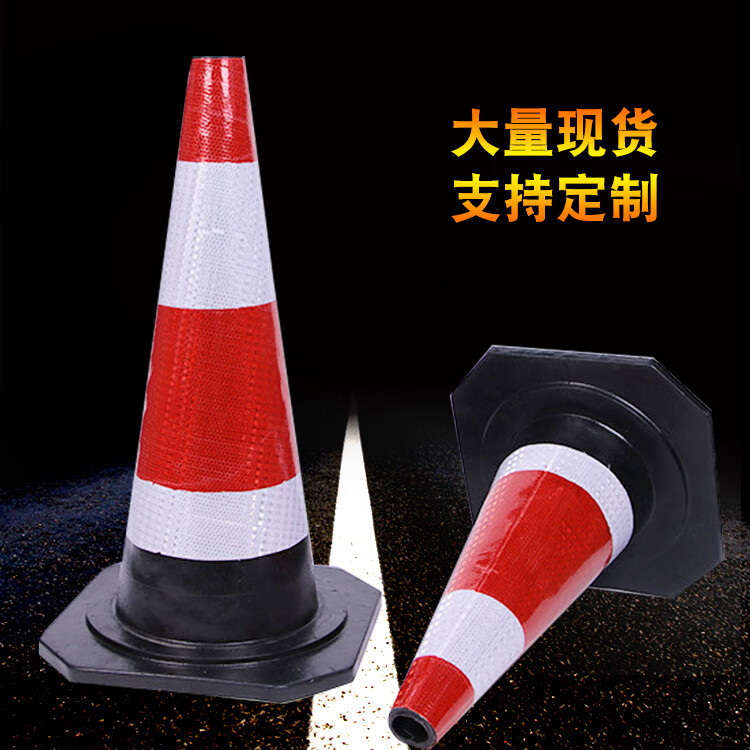traffic_cone: (66, 29, 384, 719), (340, 299, 724, 743)
